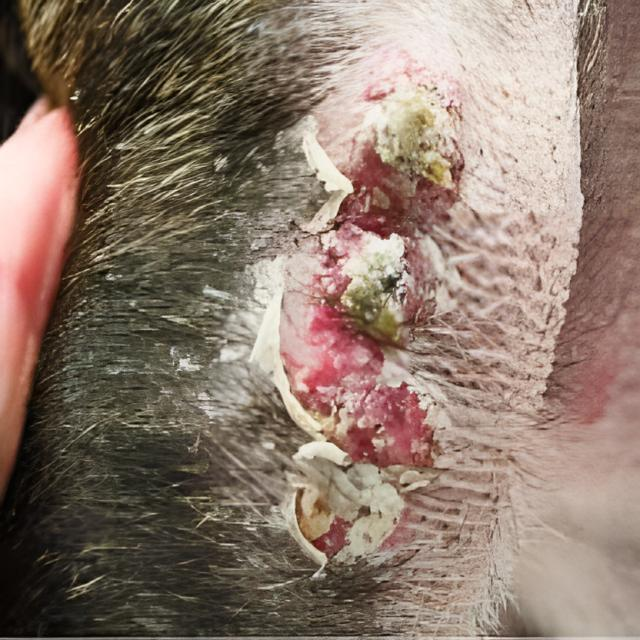allergic dermatitis: (276, 33, 444, 569)
